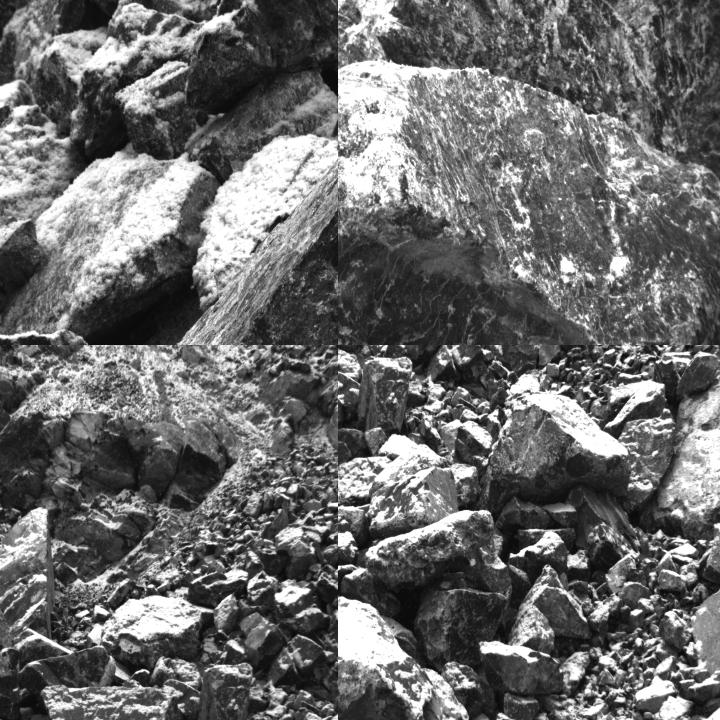stone: (338, 0, 719, 342), (338, 59, 719, 344), (95, 80, 337, 344), (0, 159, 221, 344), (479, 395, 624, 516), (190, 0, 337, 109), (338, 587, 448, 719), (364, 512, 511, 598), (646, 371, 719, 531), (366, 444, 459, 535), (0, 505, 56, 646), (99, 595, 205, 662), (416, 590, 509, 666), (620, 393, 678, 512), (20, 644, 117, 705), (570, 483, 642, 558), (522, 563, 591, 640), (480, 642, 564, 698), (46, 686, 184, 719), (359, 353, 412, 435), (691, 555, 719, 671), (270, 634, 329, 689), (199, 661, 251, 719), (272, 585, 330, 634), (338, 457, 394, 504), (424, 345, 488, 385), (243, 618, 287, 668), (673, 351, 719, 398), (508, 607, 555, 653), (498, 496, 550, 532), (453, 422, 492, 464), (0, 647, 21, 719), (491, 345, 543, 370), (659, 612, 692, 651), (702, 520, 719, 580), (338, 515, 359, 563), (405, 345, 448, 365), (546, 502, 580, 526), (658, 570, 689, 594), (47, 0, 126, 8), (327, 608, 337, 671)
